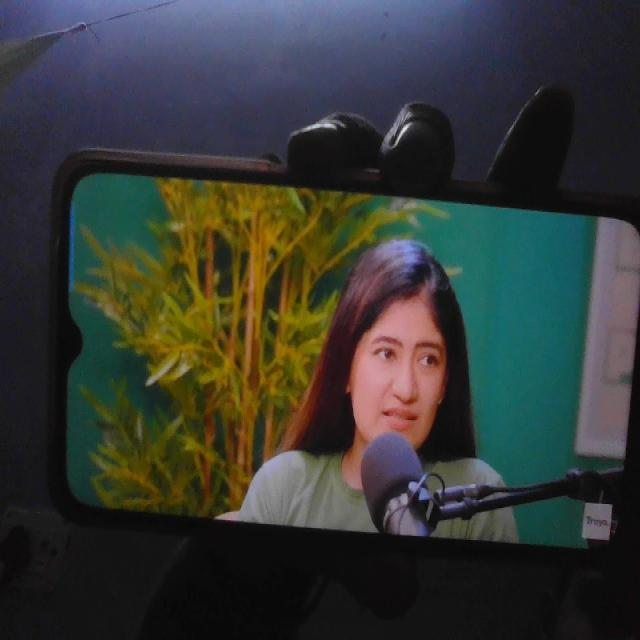fake: (335, 236, 458, 469)
